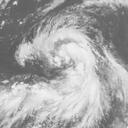cyclone: (40, 28, 108, 100)
